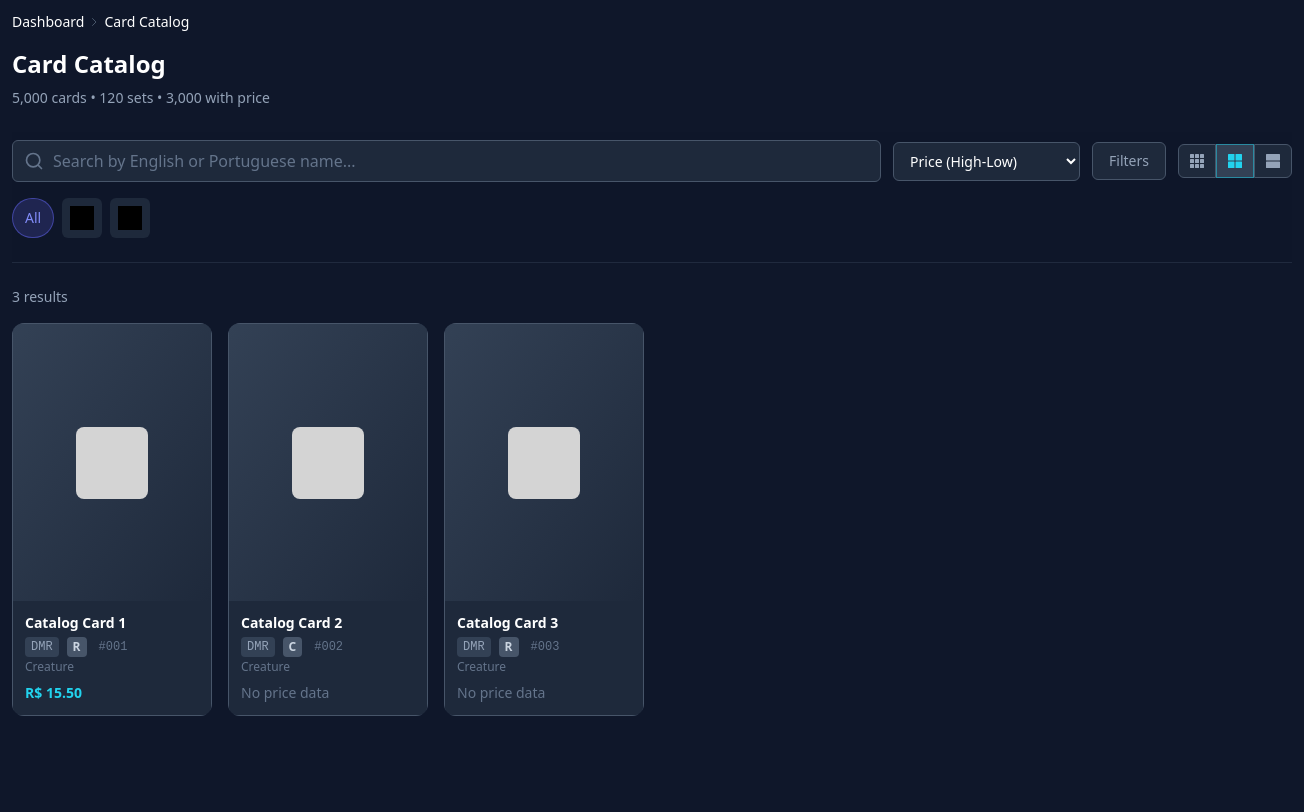
Test case: CatalogPage › filter badge count reflects active filters
The width and height of the screenshot is (1304, 812).
Expected: the element with test id "catalog-grid" is shown, x1=12 y1=323 x2=644 y2=716
Click a set icon to activate a filter
What coordinates should you click on to do the following:
click the button with test id "set-icon-DMR"
I would click on:
 (82, 218)
Its box is x1=62 y1=198 x2=102 y2=238.
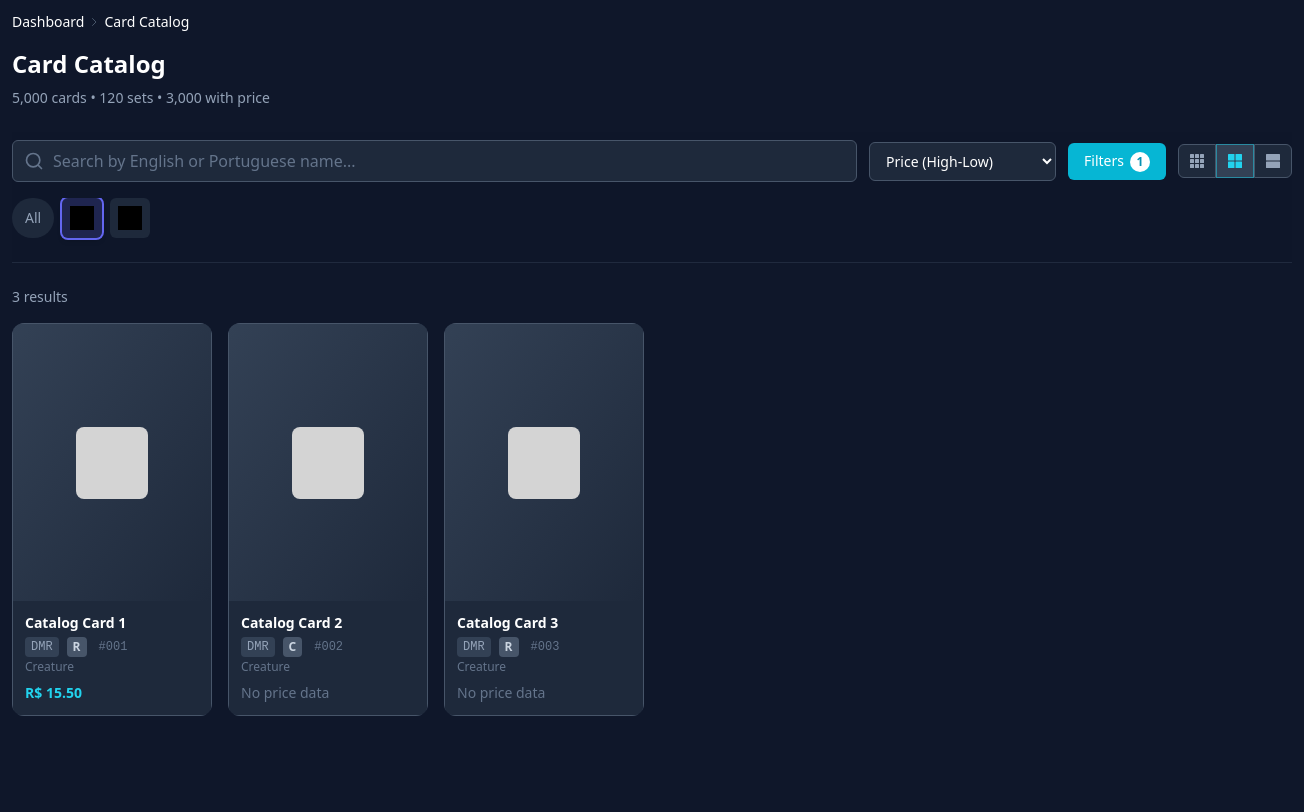
Now the text "1" is shown, box x1=1130 y1=152 x2=1150 y2=172
Now the text with test id "filter-badge" reads "1", box x1=1137 y1=152 x2=1144 y2=170
